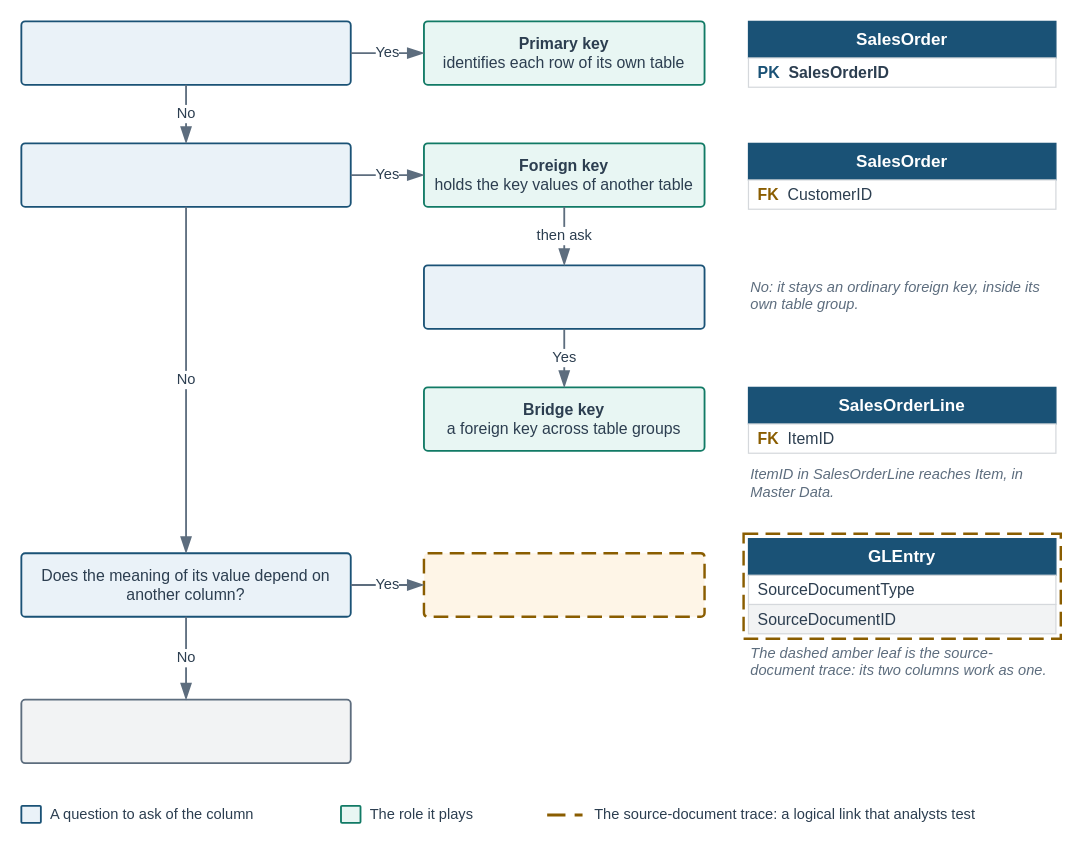
Some shapes in this 1092 by 850 pixel diagram are drawn without their labels. The shapes that lost their labels are listed below. From the top down, each one's centre as x and y in pixels, then its label:
(185,52): Does the column identify the rows of its own table?
(185,174): Does it hold the key values of another table?
(563,296): Does the same column reach into another table group?
(563,584): Logical reference, not a key read together with SourceDocumentType
(185,730): An ordinary column it describes the row
